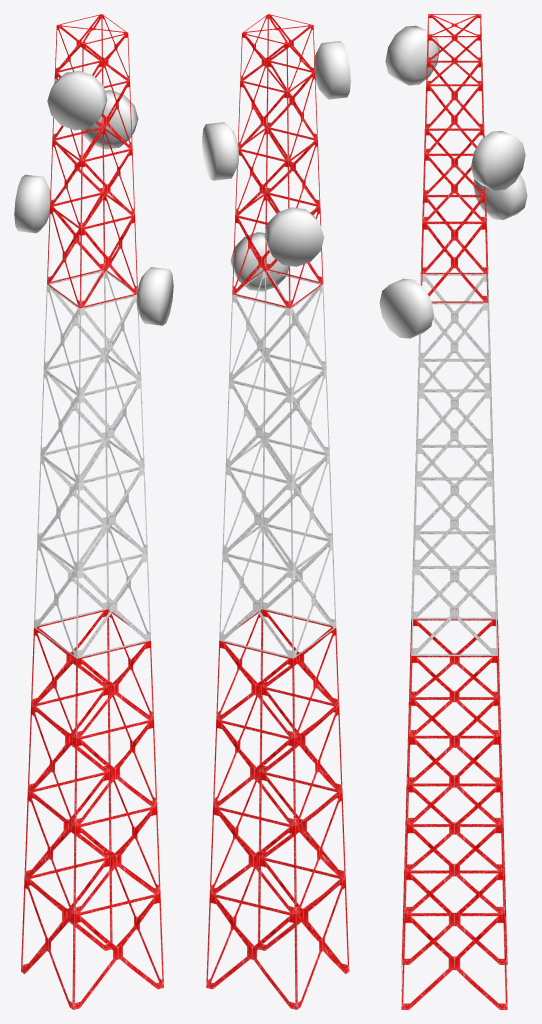
Rendered from Radio Tower.glb.
3 renders of one model, left to right at view 1: azimuth 30°, elevation 25°; view 2: azimuth 150°, elevation 25°; view 3: azimuth 270°, elevation 25°, orthographic.
Parts seen in each view (by area): view 1: Cube.002, Cylinder.004, Cylinder.005, Cylinder.003, Cylinder.002; view 2: Cube.002, Cylinder.003, Cylinder.002, Cylinder.004, Cylinder.005; view 3: Cube.002, Cylinder.002, Cylinder.005, Cylinder.004, Cylinder.003.
Boxes of the visible parts, x1,y1,x2,y2 form: Cube.002: (21,14,163,1009); Cylinder.004: (47,70,107,130); Cylinder.005: (136,267,173,325); Cylinder.003: (14,174,51,233); Cylinder.002: (81,90,138,149); Cube.002: (206,14,349,1009); Cylinder.003: (264,207,324,266); Cylinder.002: (202,122,238,180); Cylinder.004: (314,41,350,99); Cylinder.005: (230,232,288,291); Cube.002: (401,14,507,1009); Cylinder.002: (471,131,525,190); Cylinder.005: (379,278,433,338); Cylinder.004: (385,25,439,85); Cylinder.003: (473,174,527,219).
Bounding box in the file's own units: 7.67 × 55 × 7.67.
2 materials, 1 textured.
